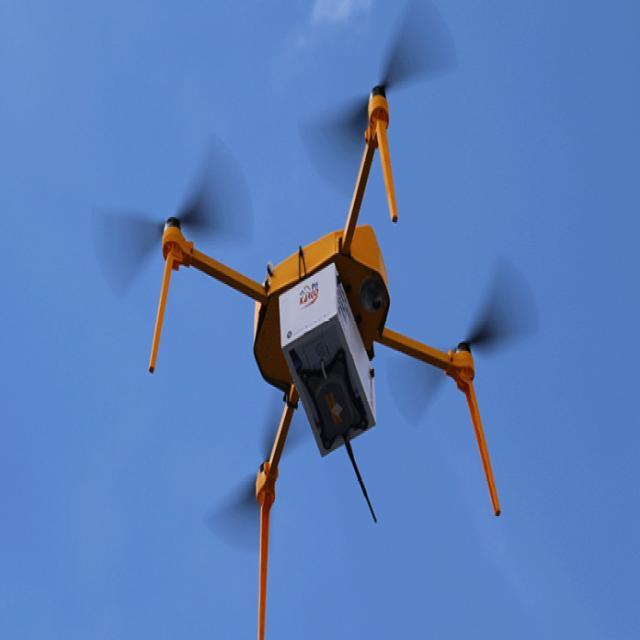drone: (140, 55, 546, 528)
